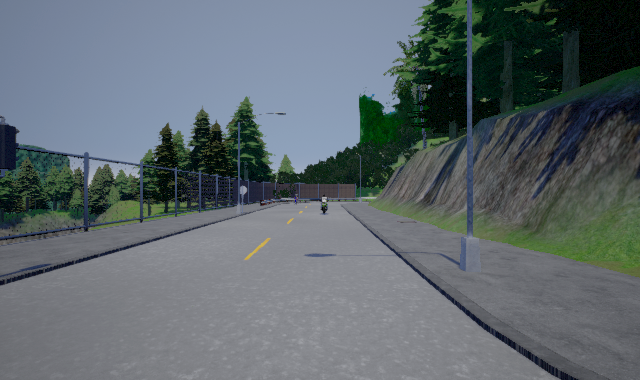motobike: (320, 195, 329, 214)
